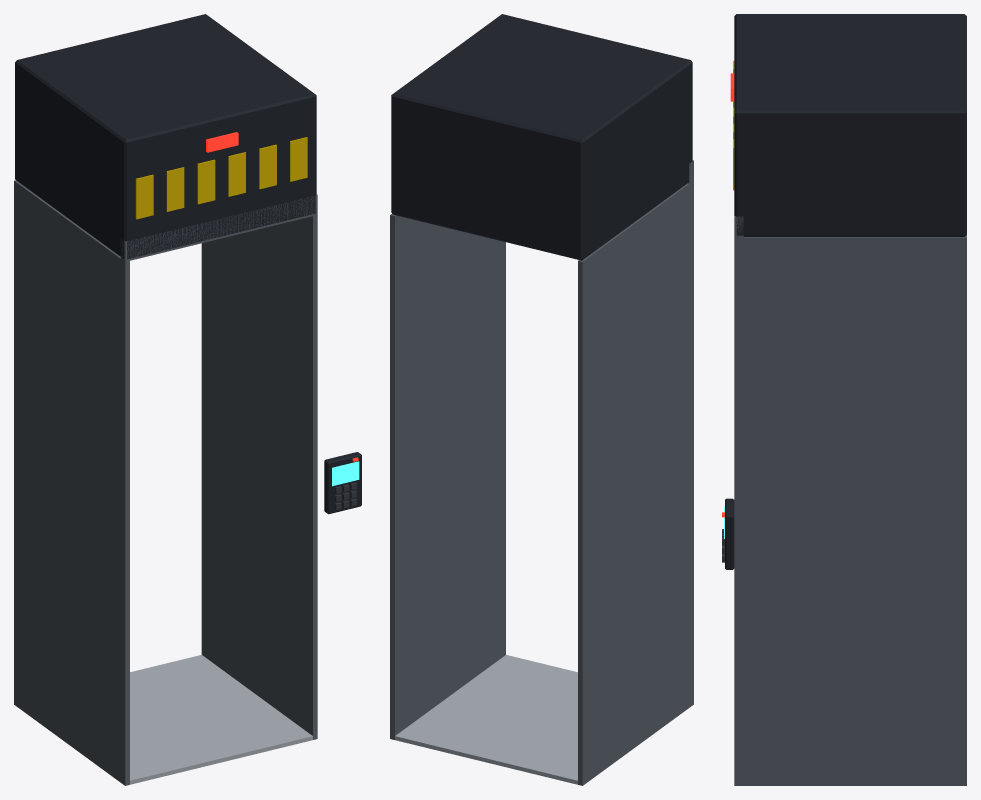
Rendered from door_security_frame.glb.
3 renders of one model, left to right at view 1: azimuth 30°, elevation 25°; view 2: azimuth 150°, elevation 25°; view 3: azimuth 270°, elevation 25°, orthographic. The views are drawn at different scales.
Parts seen in each view (by area): view 1: door_security_frame, keypad; view 2: door_security_frame; view 3: door_security_frame, keypad.
Part boxes in pixels (x1=…): door_security_frame: x1=14, y1=14, x2=317, y2=785; keypad: x1=324, y1=452, x2=361, y2=514; door_security_frame: x1=390, y1=14, x2=693, y2=785; door_security_frame: x1=730, y1=14, x2=966, y2=785; keypad: x1=722, y1=498, x2=734, y2=569.
Size of the model in its own units: 1.21 by 3.2 by 1.05.
